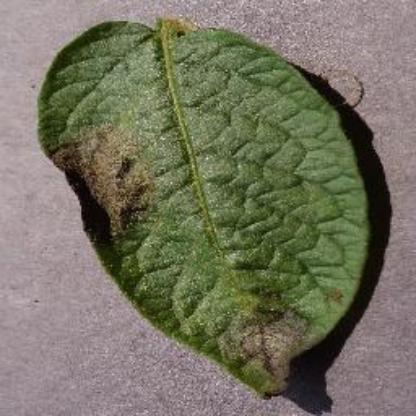Late-Blight: (32, 13, 402, 406)
